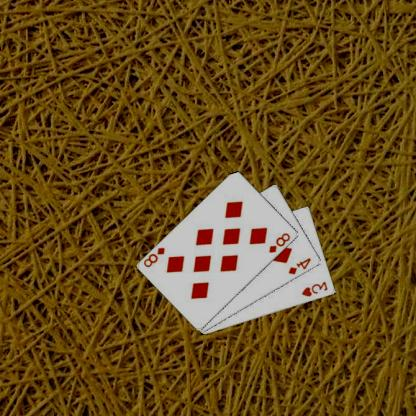3H: (301, 279, 331, 298)
4D: (288, 255, 314, 276)
8D: (268, 230, 294, 254), (143, 244, 168, 268)
